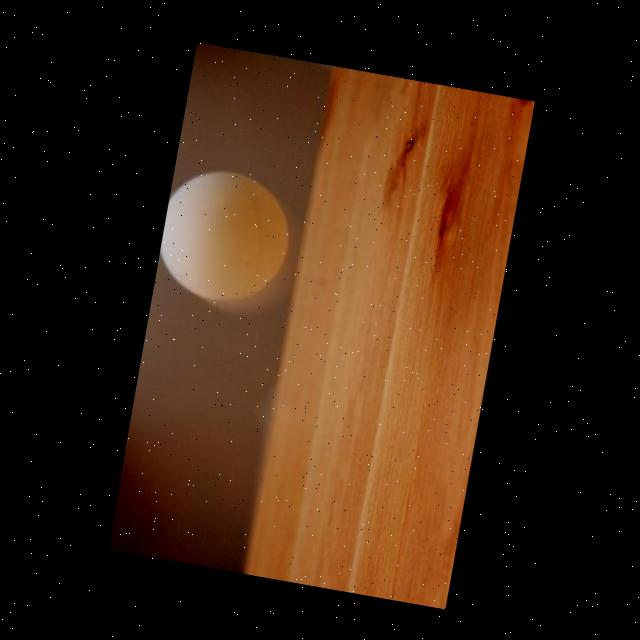ping-pong-ball: (152, 158, 302, 312)
